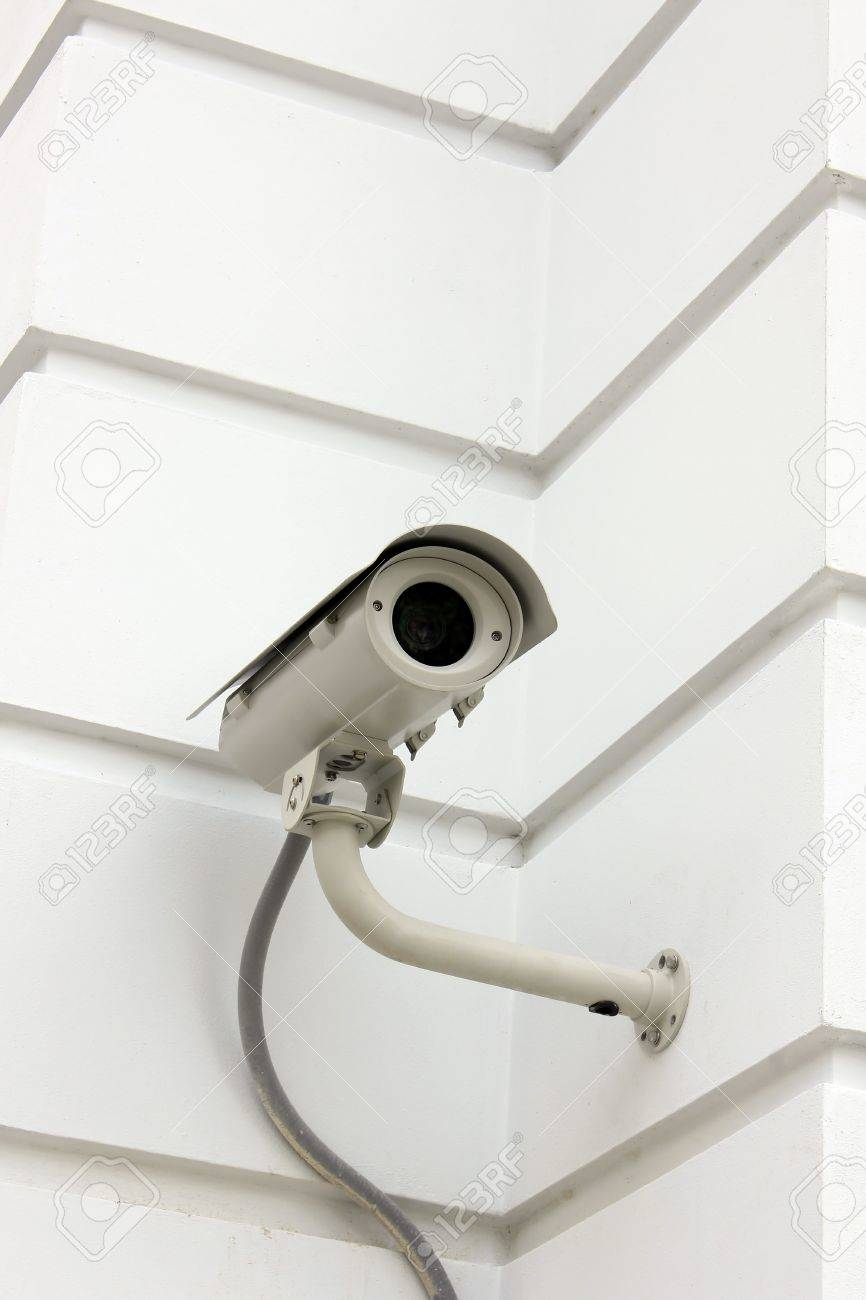CC Camera: (190, 516, 570, 824)
